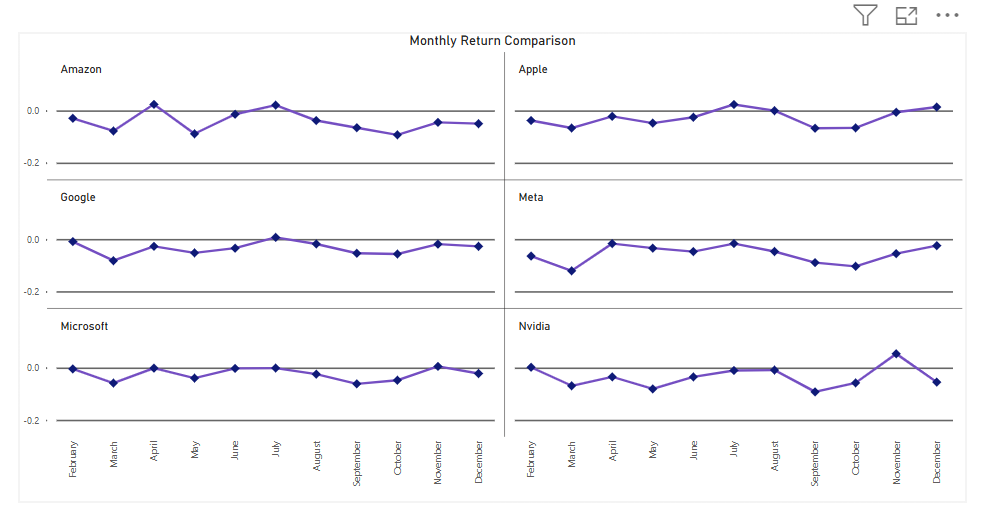

This screenshot's page, from the dashboard's own definition file:
{"tool":"powerbi","page":{"name":"Monthly Return","canvas":[1280,720],"ordinal":6},"visuals":[{"type":"lineChart","title":"Monthly Return Comparison","fields":{"Y":["Avg(CompanyMonthlyWeeklyReturn.MonthlyReturn)"],"Rows":["CompanyMonthlyWeeklyReturn.Company"],"Category":["CompanyMonthlyWeeklyReturn.Date.Variation.Date Hierarchy.Month"]},"box":[43.5,62.4,1194.3,591.5],"z":0}]}

Visuals, with their boxes on the page's 1280x720 design canvas (x1, y1, x2, y2). These are canvas units, not pixel positions in the 987x520 screenshot, which may show the page scaled, cropped or inside an application window:
"Monthly Return Comparison" lineChart: <region>44, 62, 1238, 654</region>
